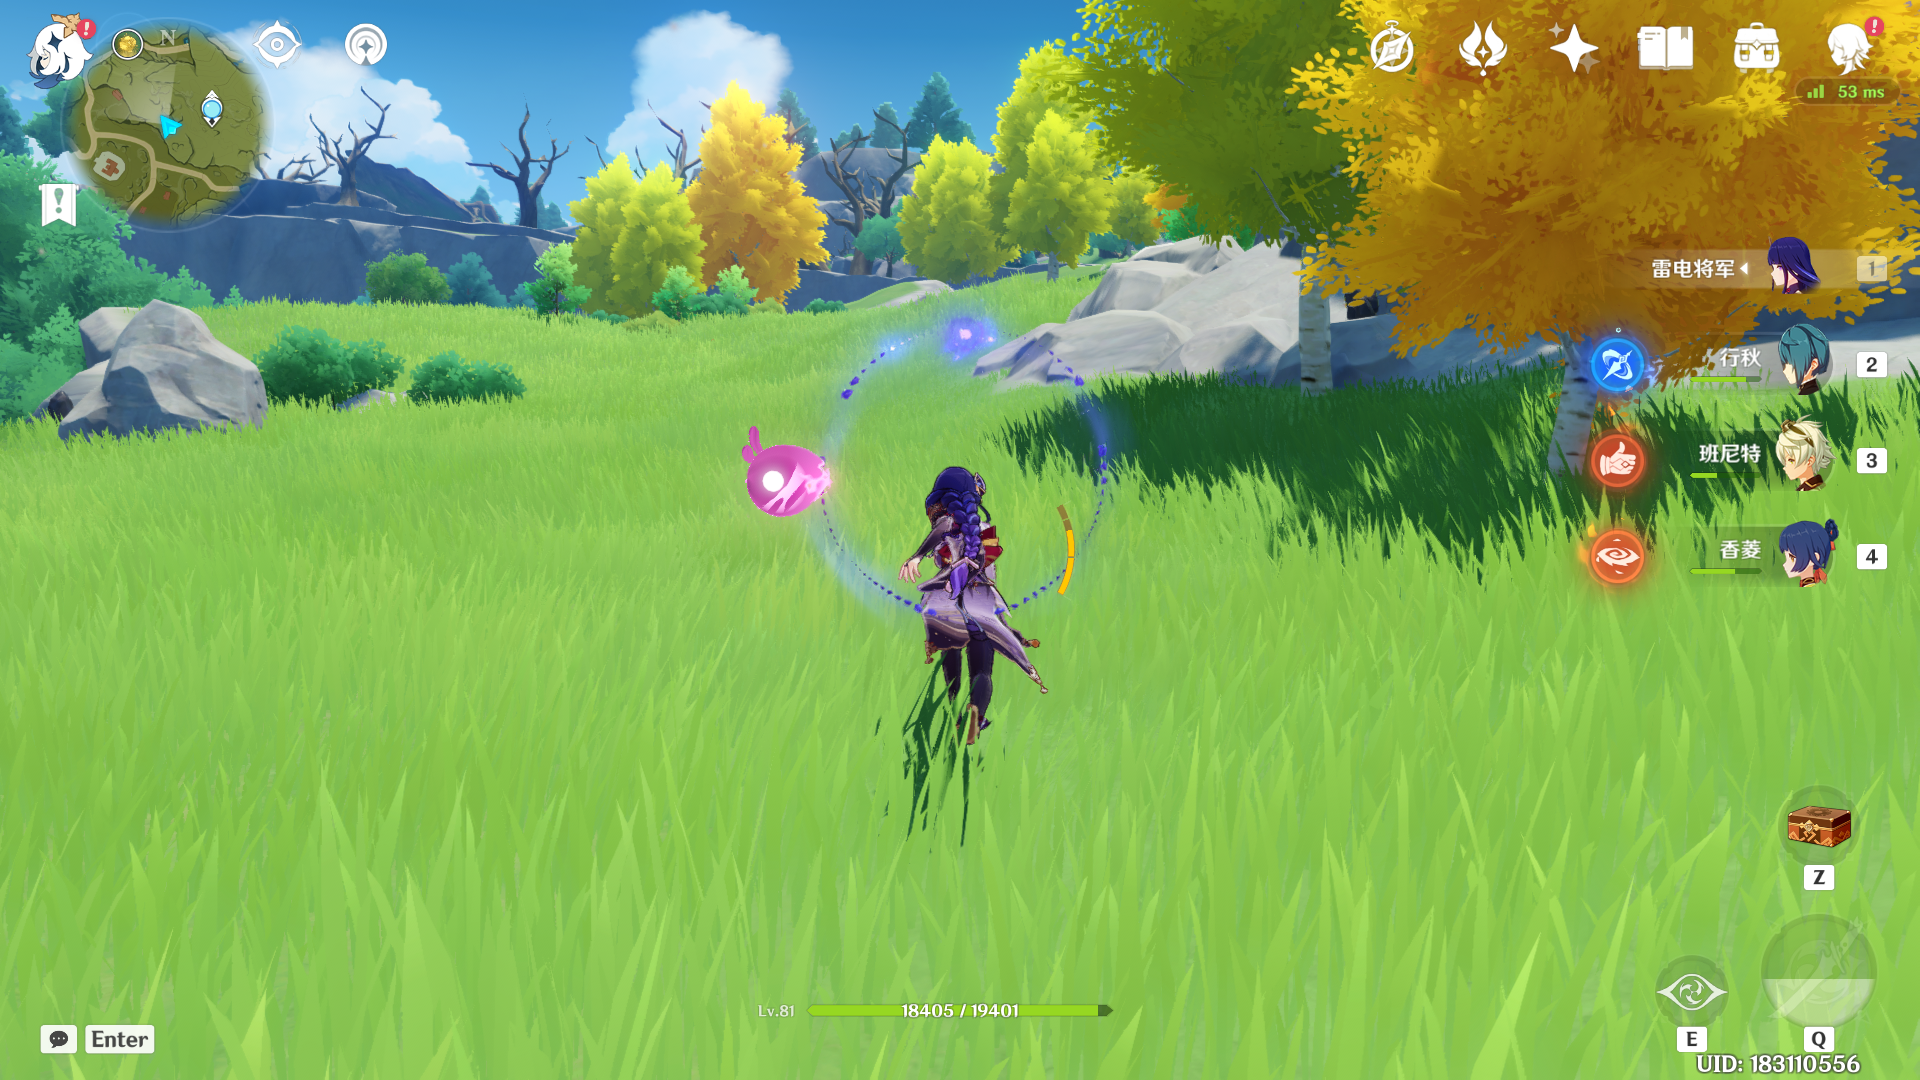character: (858, 434, 1112, 781)
